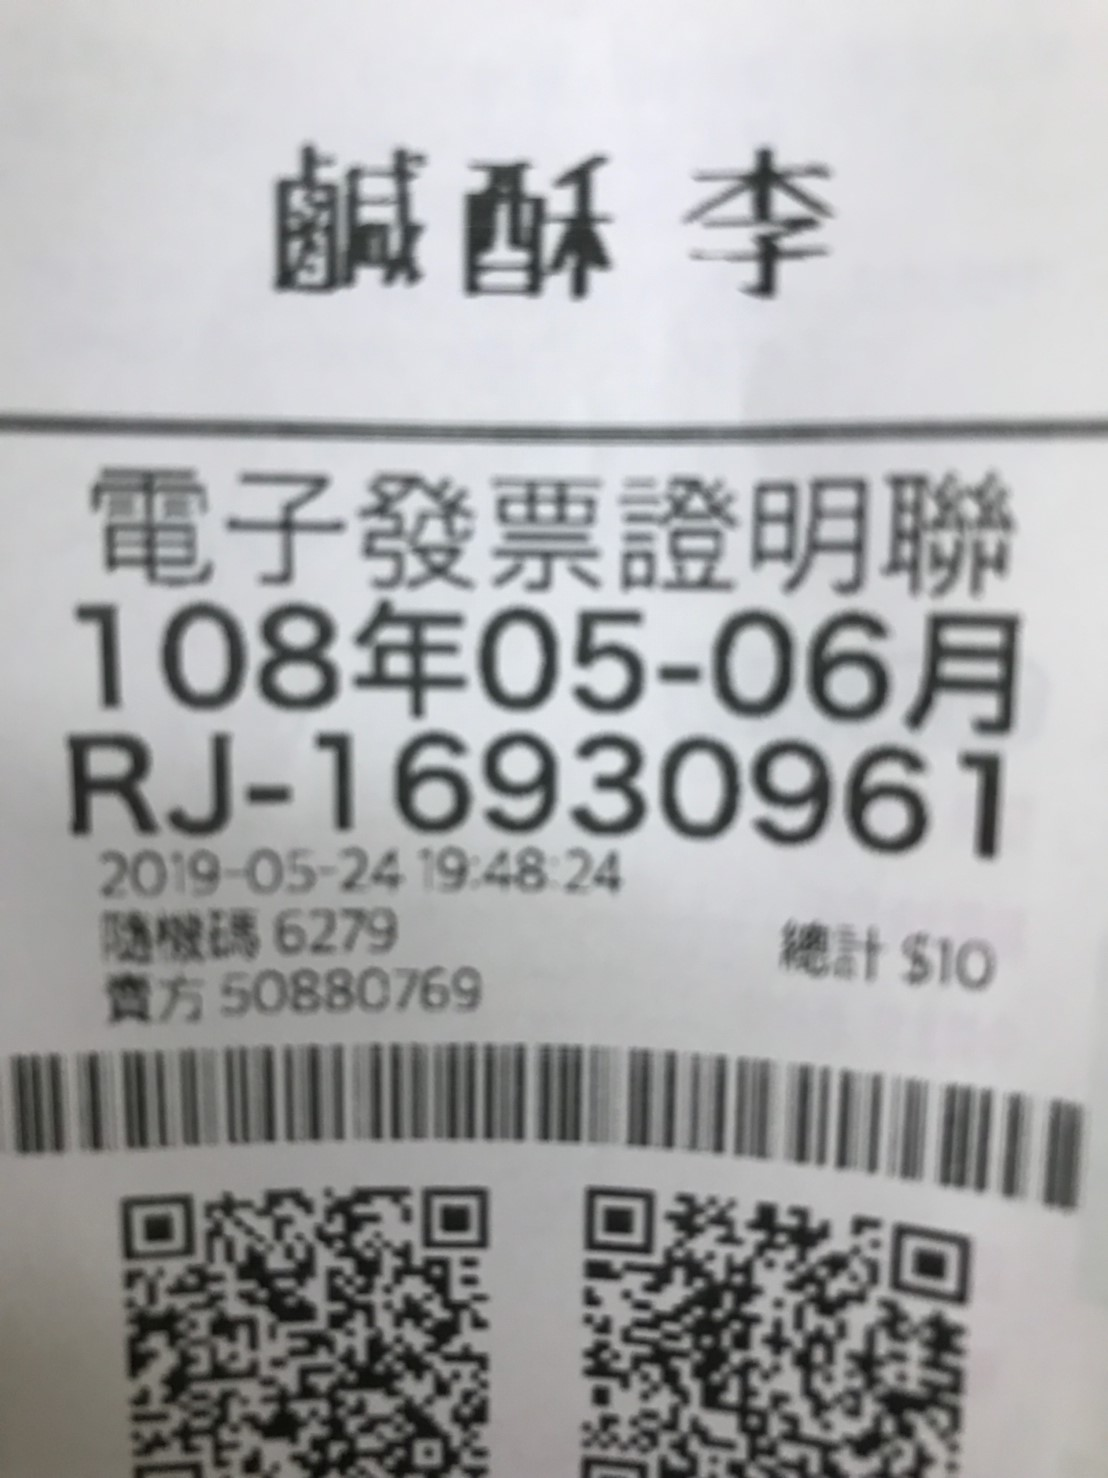Date_New: (62, 591, 1027, 742)
Number_New: (307, 719, 1010, 871)
